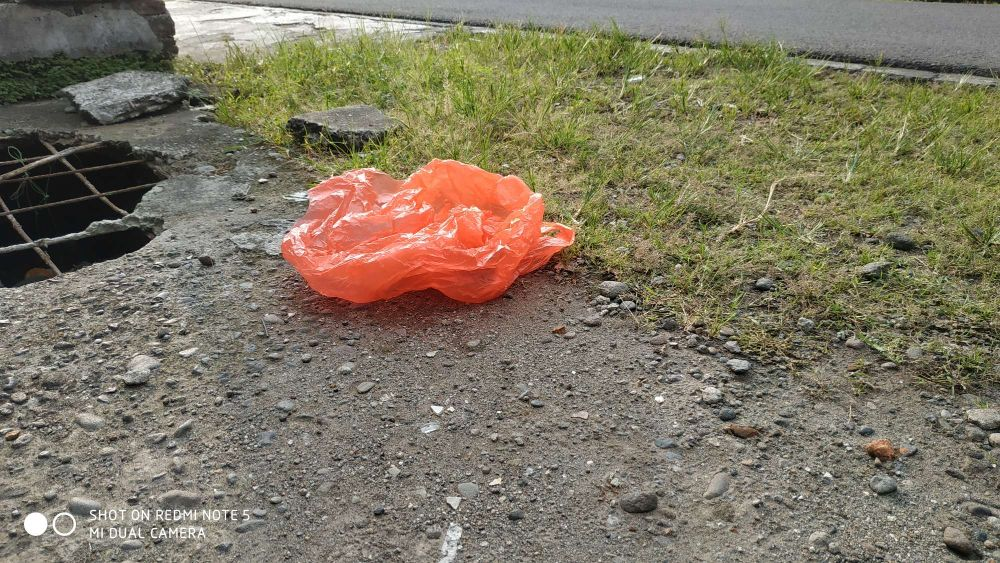plastik: (283, 150, 579, 314)
